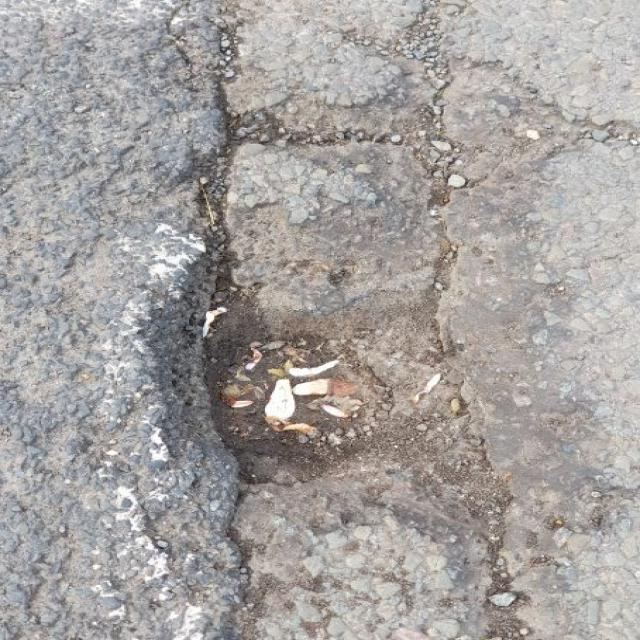pothole: (140, 84, 514, 514)
